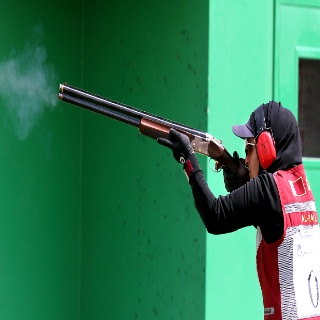shotgun: (58, 80, 249, 180)
